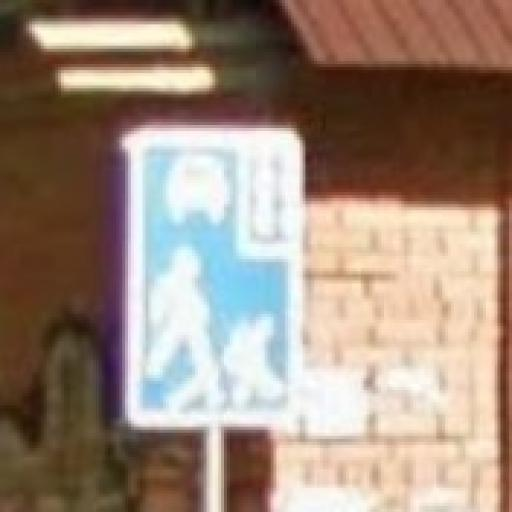traffic_sign: (126, 129, 307, 434)
